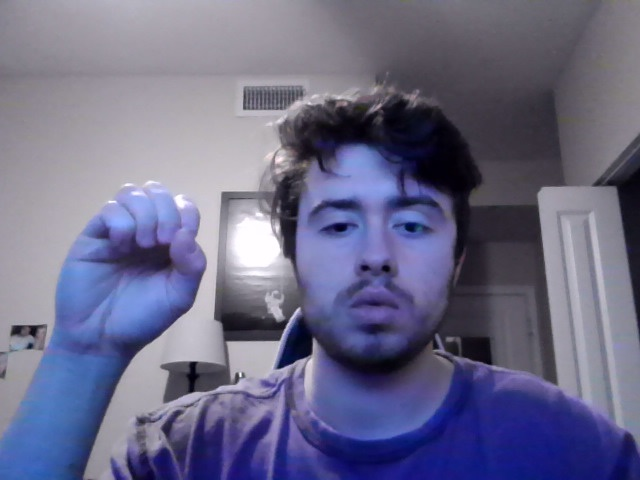o: (42, 178, 207, 367)
